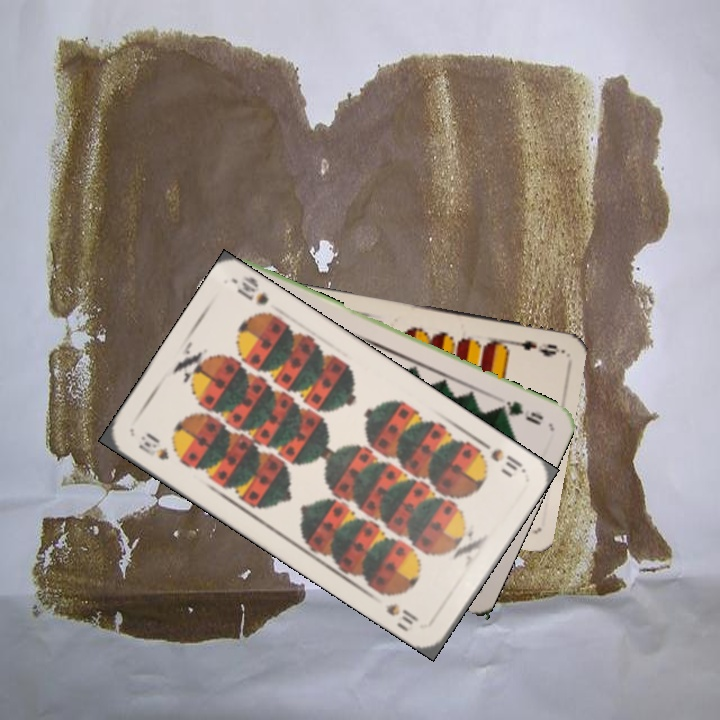E9: (503, 336, 562, 359)
G9: (491, 397, 546, 428)
S10: (475, 435, 527, 475), (134, 431, 172, 463)
